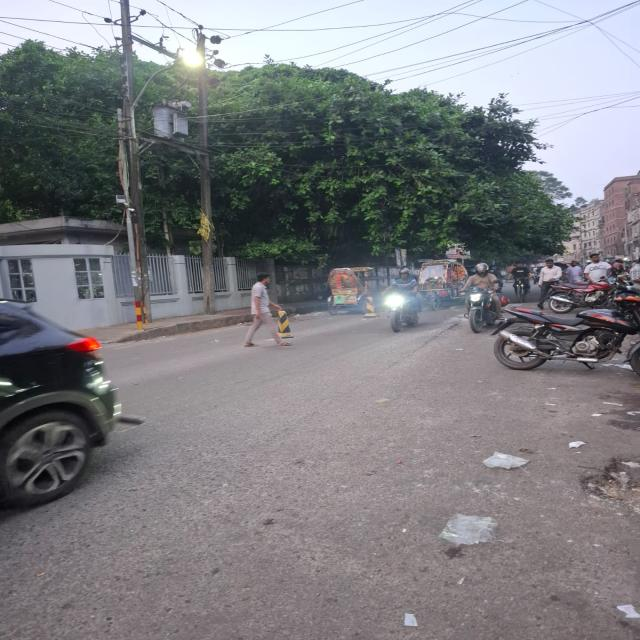person: (243, 273, 290, 348), (537, 258, 562, 310)
